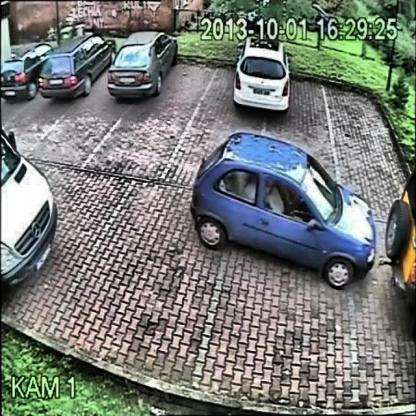free: (248, 262, 345, 403), (103, 216, 184, 373), (324, 76, 380, 144), (182, 44, 226, 108)
occupied: (0, 121, 58, 297), (233, 28, 296, 116), (116, 25, 173, 101), (50, 35, 100, 99), (2, 38, 40, 107)
